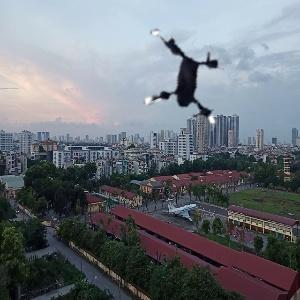drone: (111, 18, 244, 151)
